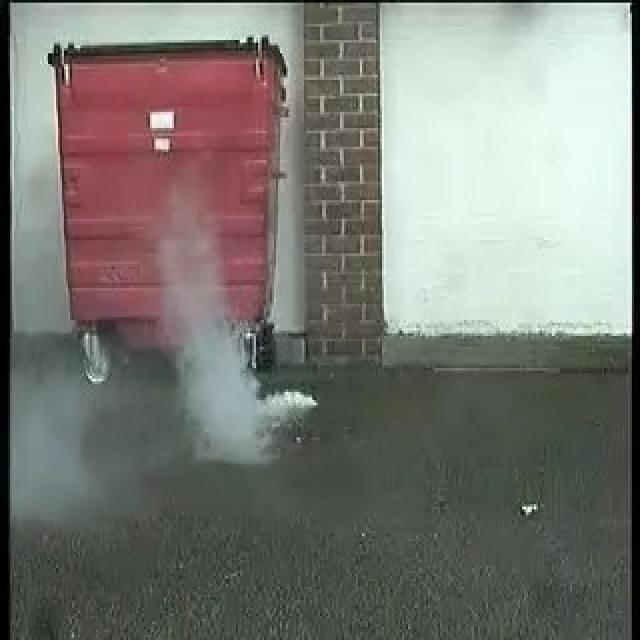smoke: (163, 285, 316, 464)
